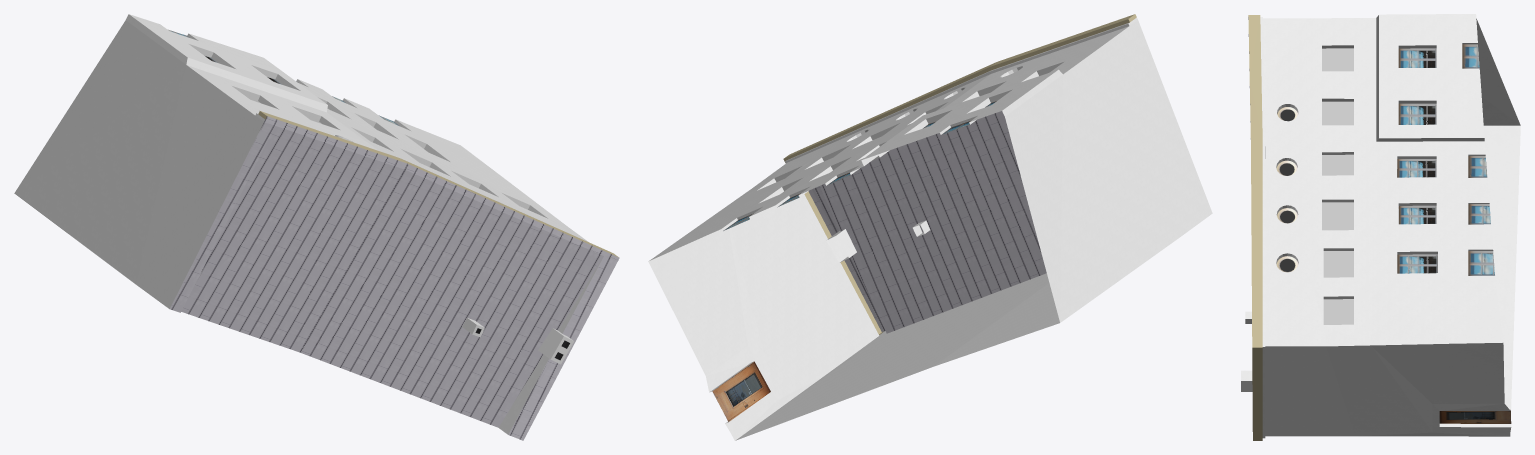
The model's file is Ryytli_26.obj.
3 renders of one model, left to right at view 1: azimuth 30°, elevation 25°; view 2: azimuth 150°, elevation 25°; view 3: azimuth 270°, elevation 25°, orthographic. The views are drawn at different scales.
Parts seen in each view (by area): view 1: Ryytli_26; view 2: Ryytli_26; view 3: Ryytli_26.
Part boxes in pixels (bbox=[...]): Ryytli_26: bbox=[14, 14, 619, 440]; Ryytli_26: bbox=[648, 14, 1212, 440]; Ryytli_26: bbox=[1241, 14, 1520, 440].
Size of the model in its own units: 19.05 by 16.05 by 12.61.
